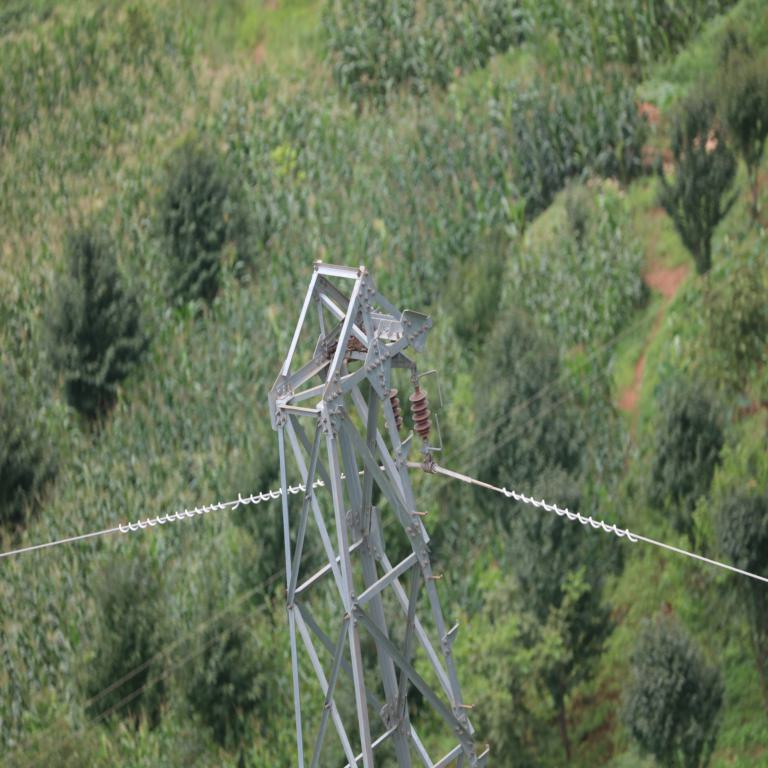nest: (334, 322, 369, 355)
